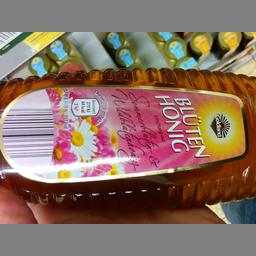honey: (0, 67, 255, 208)
